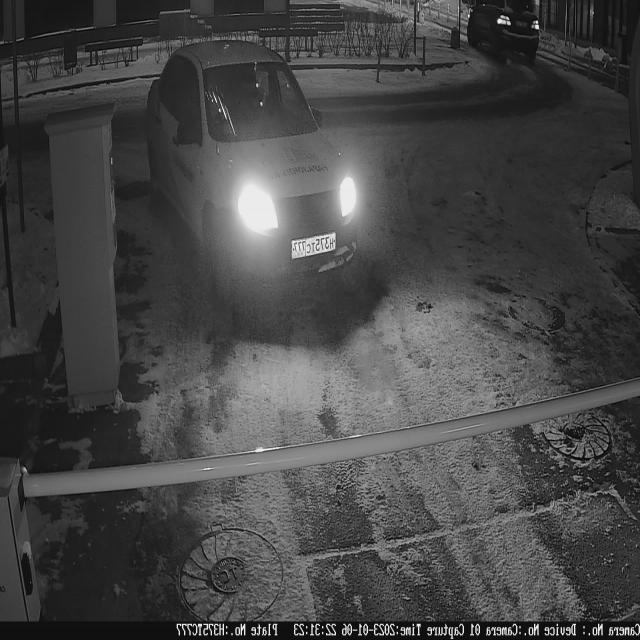car-plate-numbers: (291, 226, 341, 263)
